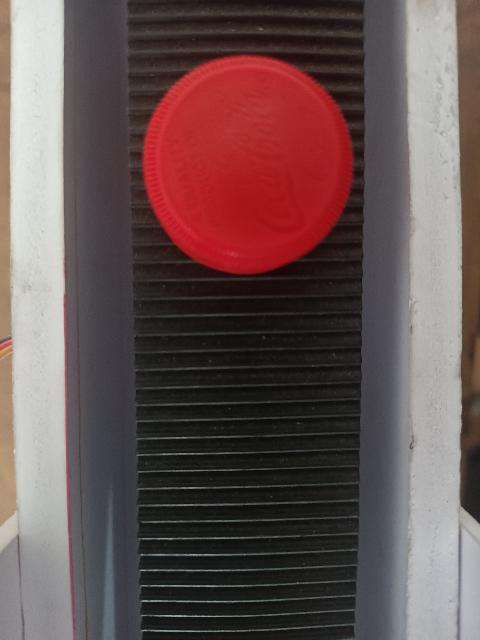bottlecap: (139, 52, 355, 274)
